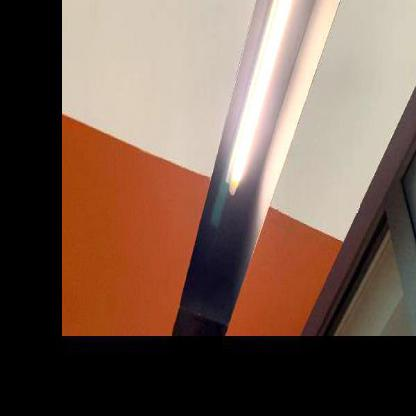light_on: (221, 0, 316, 201)
